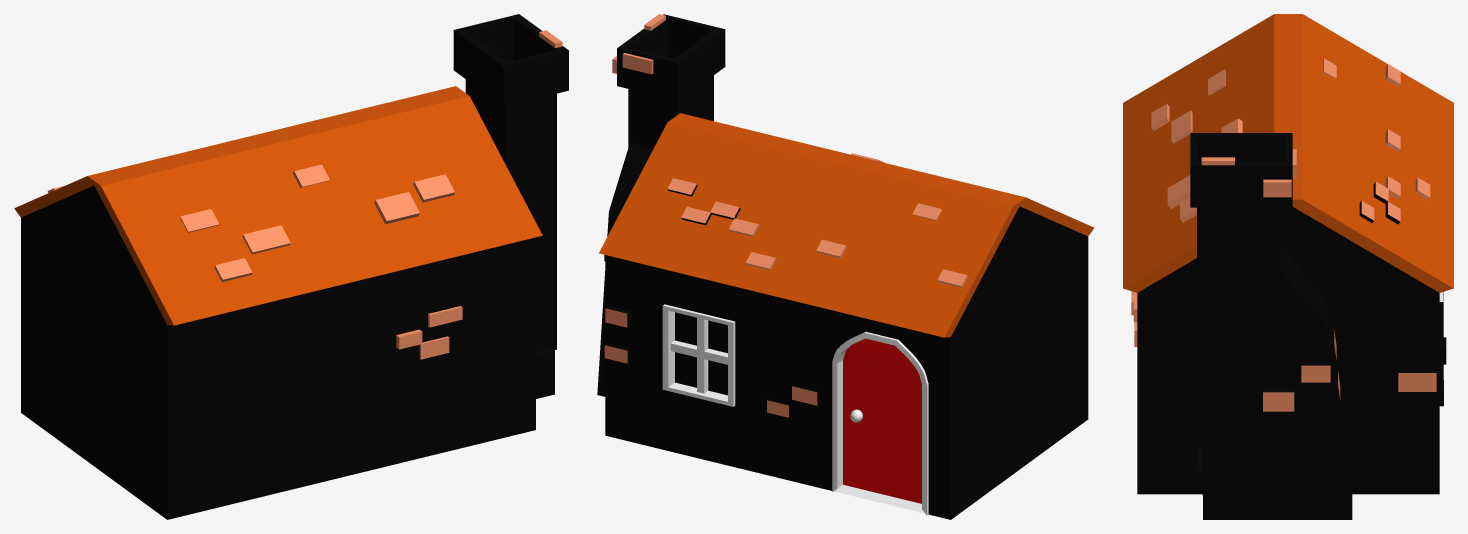
Rendered from house3.fbx.
3 renders of one model, left to right at view 1: azimuth 30°, elevation 25°; view 2: azimuth 150°, elevation 25°; view 3: azimuth 270°, elevation 25°, orthographic. The views are drawn at different scales.
Parts seen in each view (by area): view 1: house3; view 2: house3; view 3: house3.
Part boxes in pixels (x1=…): house3: x1=14, y1=14, x2=568, y2=519; house3: x1=597, y1=14, x2=1094, y2=519; house3: x1=1123, y1=14, x2=1453, y2=519.
Size of the model in its own units: 360 by 279 by 231.
